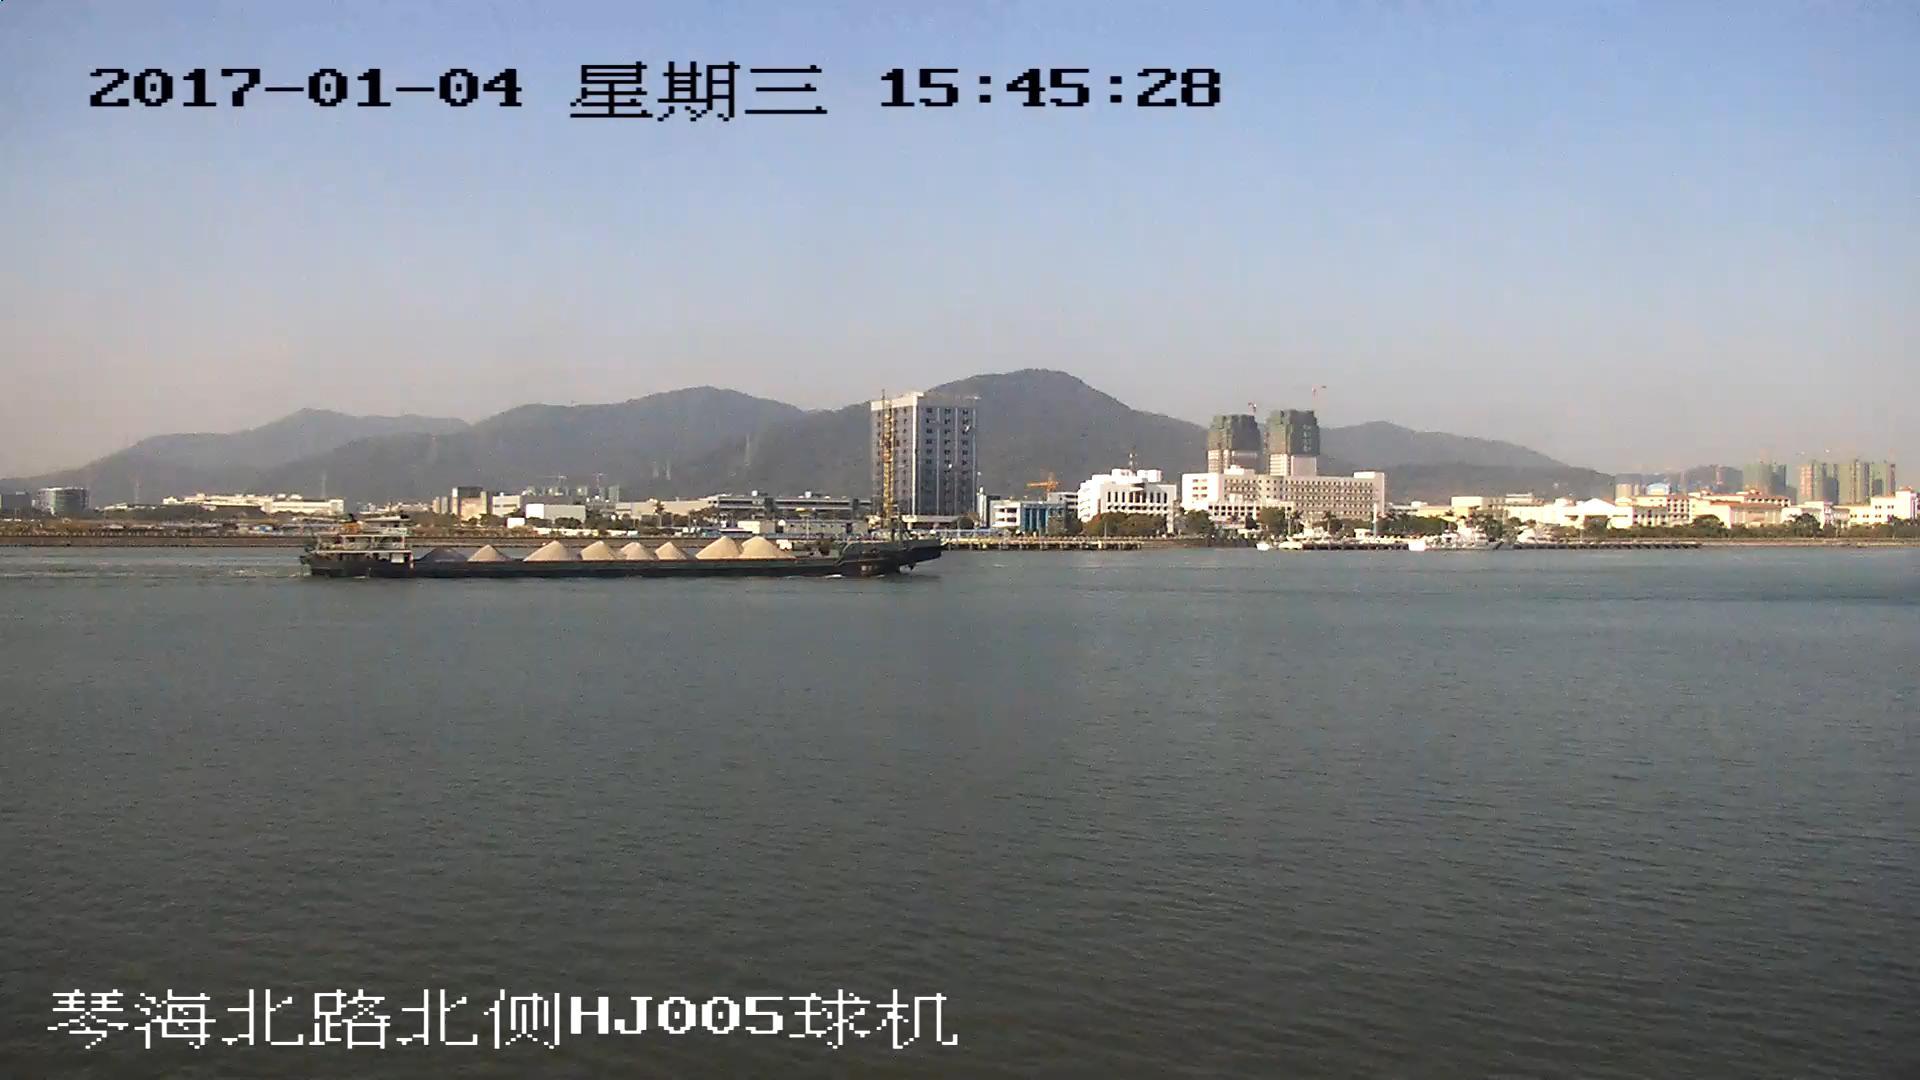ore carrier: (306, 506, 945, 579)
